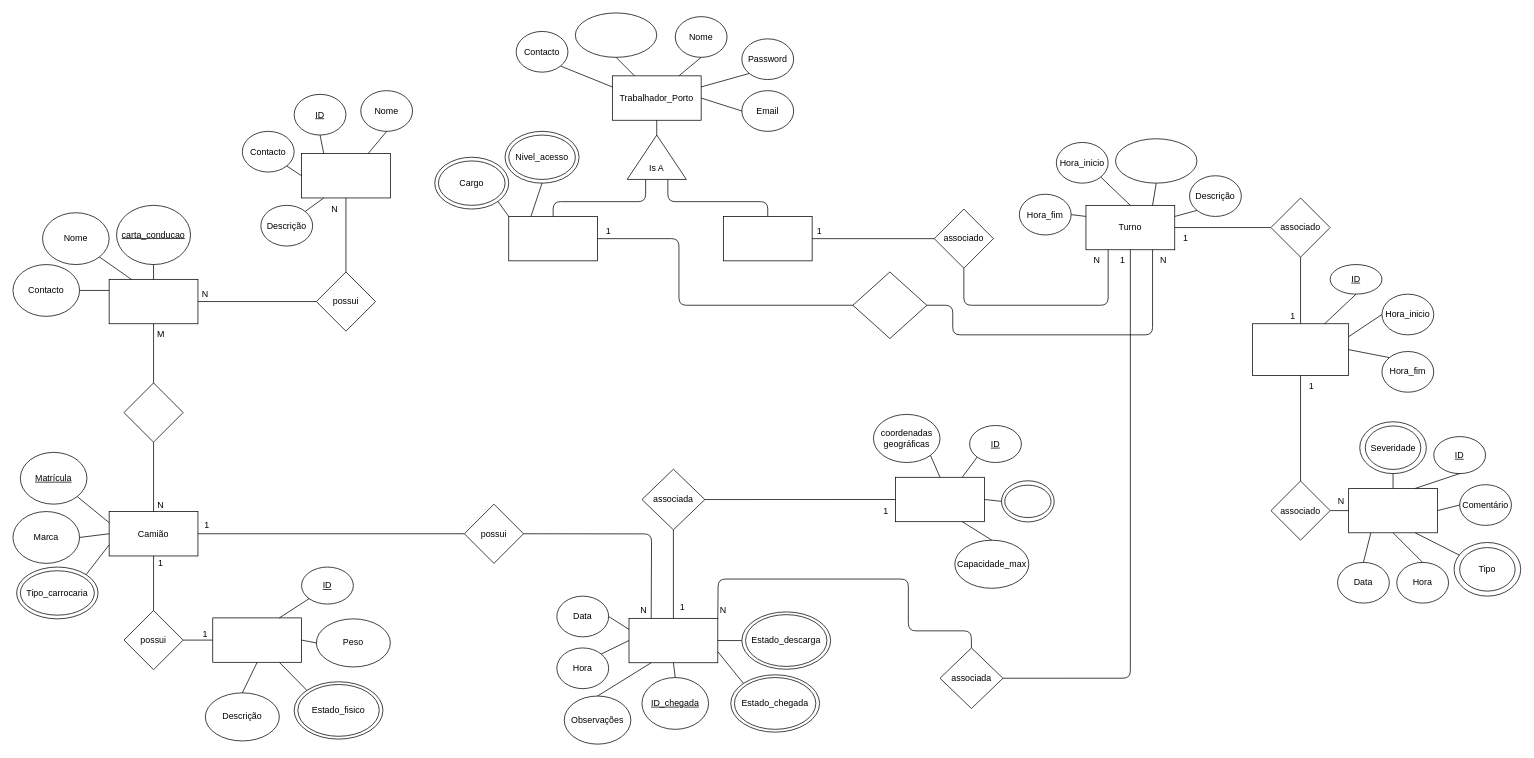
Some shapes in this 1534 by 758 pixel diagram are drawn without their labels. The centre of each missing label's shape, as x and y in pixels:
"Alerta" belongs at (x=1392, y=510).
"Cais" belongs at (x=939, y=499).
"Carga" belongs at (x=257, y=639).
"Chegadas_Diárias" belongs at (x=673, y=640).
"Condutor" belongs at (x=153, y=301).
"conduzido" belongs at (x=153, y=412).
"Empresa" belongs at (x=345, y=175).
"Estado" belongs at (x=1027, y=501).
"Gestor" belongs at (x=553, y=238).
"Historico_Ocorrências" belongs at (x=1300, y=349).
"ID_turno" belongs at (x=1156, y=160).
"Num_trabalhador" belongs at (x=616, y=34).
"Operador" belongs at (x=767, y=238).
"responsavel po" belongs at (x=889, y=305).
